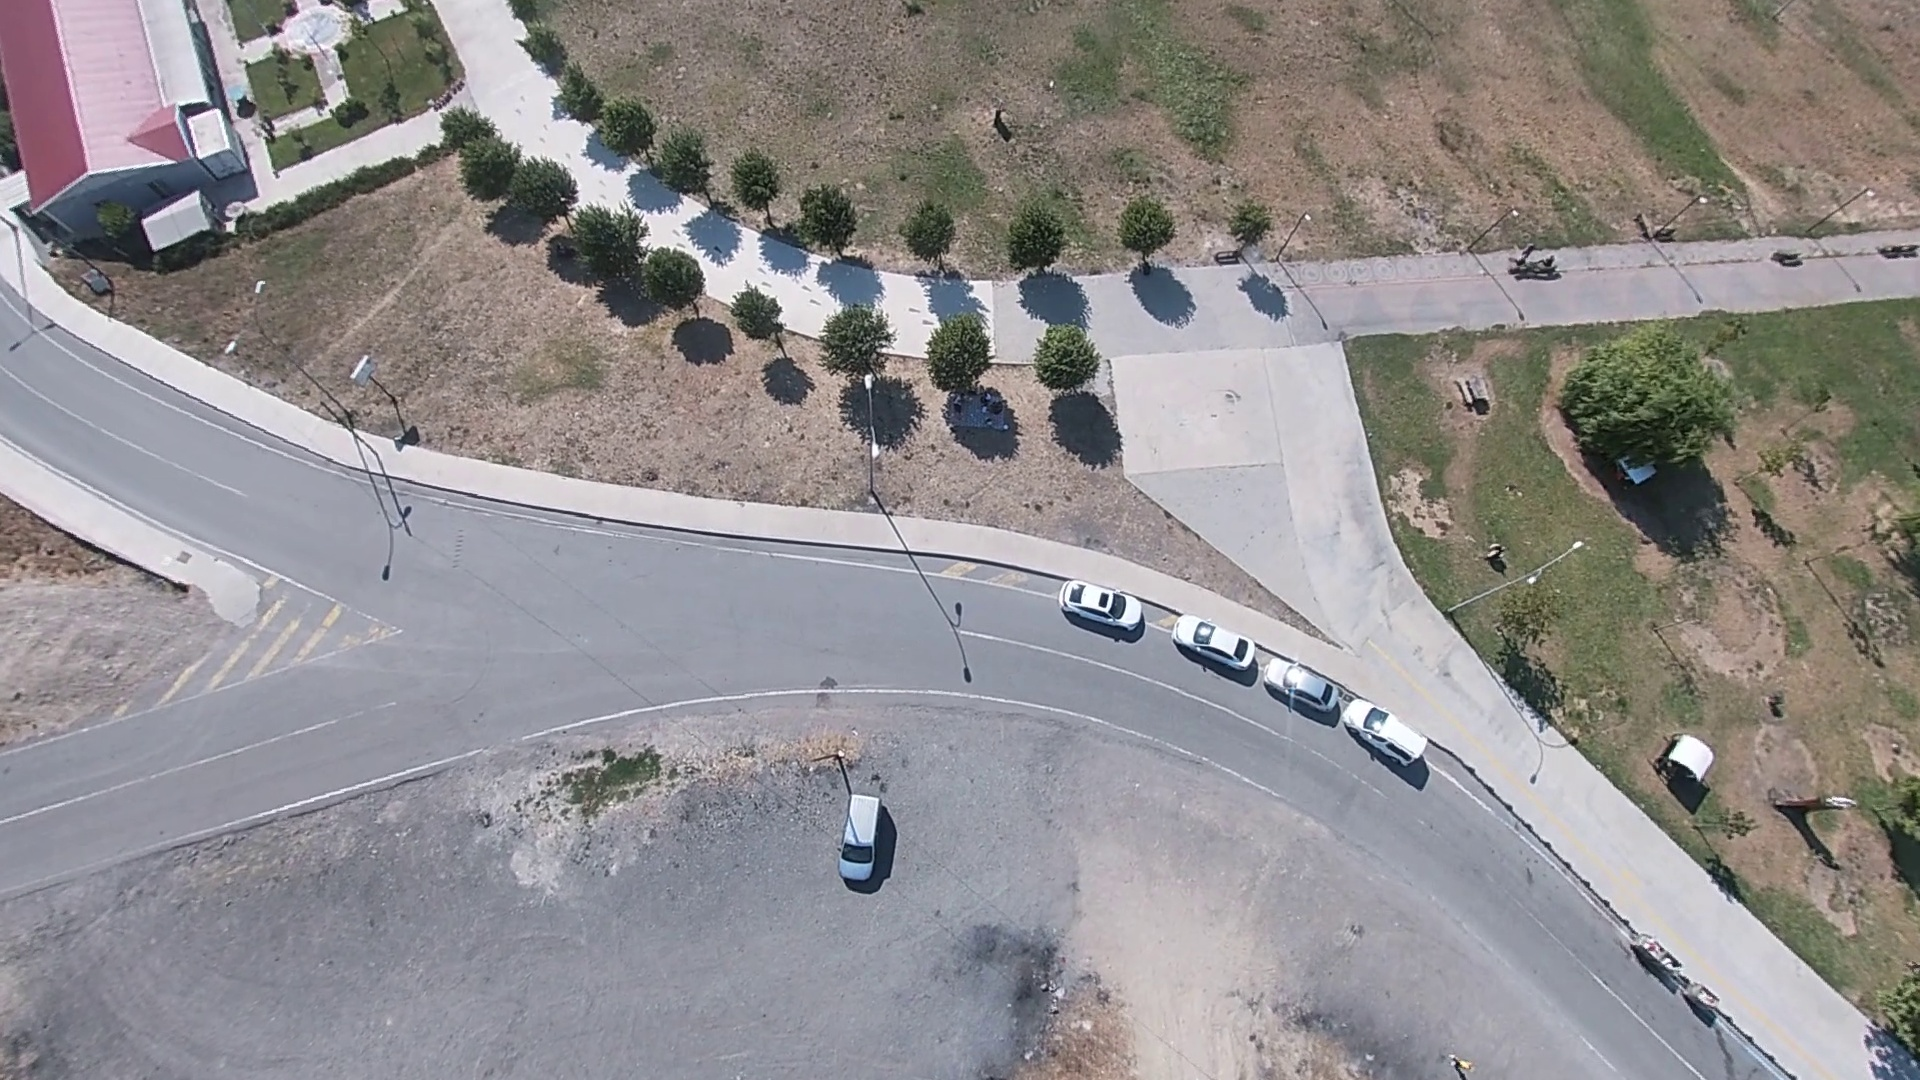arac: (1167, 614, 1442, 774), (1053, 572, 1151, 646), (1171, 610, 1264, 683), (834, 784, 896, 885)
insan: (1481, 542, 1511, 579)
